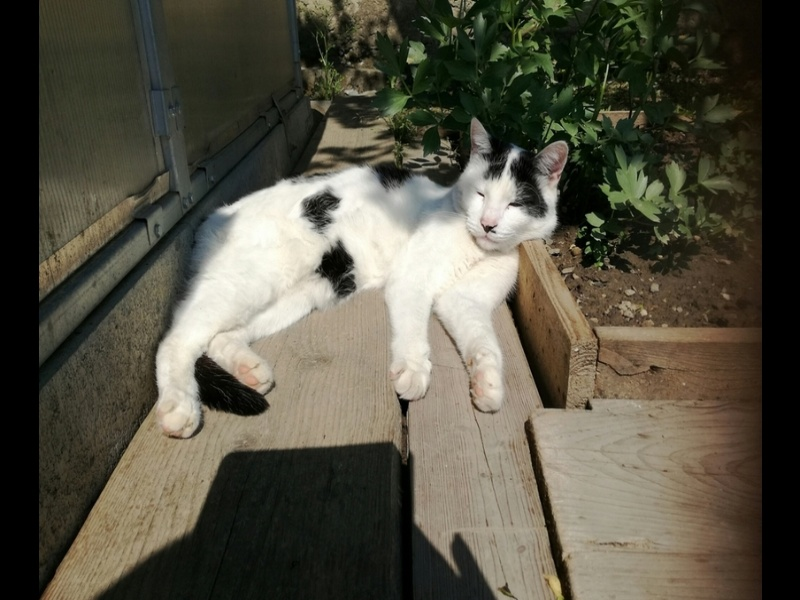cat: (157, 116, 573, 449)
